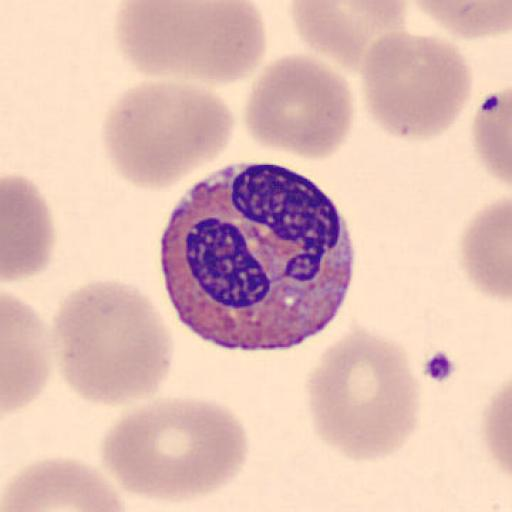RBC: (304, 326, 422, 464), (100, 396, 250, 504), (52, 277, 174, 408), (100, 80, 236, 191), (117, 0, 268, 86), (359, 32, 474, 141), (243, 52, 356, 161), (287, 0, 408, 72), (1, 455, 127, 512), (2, 173, 58, 283), (2, 293, 52, 416), (459, 192, 512, 303), (405, 0, 512, 41), (471, 85, 512, 190), (479, 380, 512, 483)
WBC: (158, 155, 355, 353)
